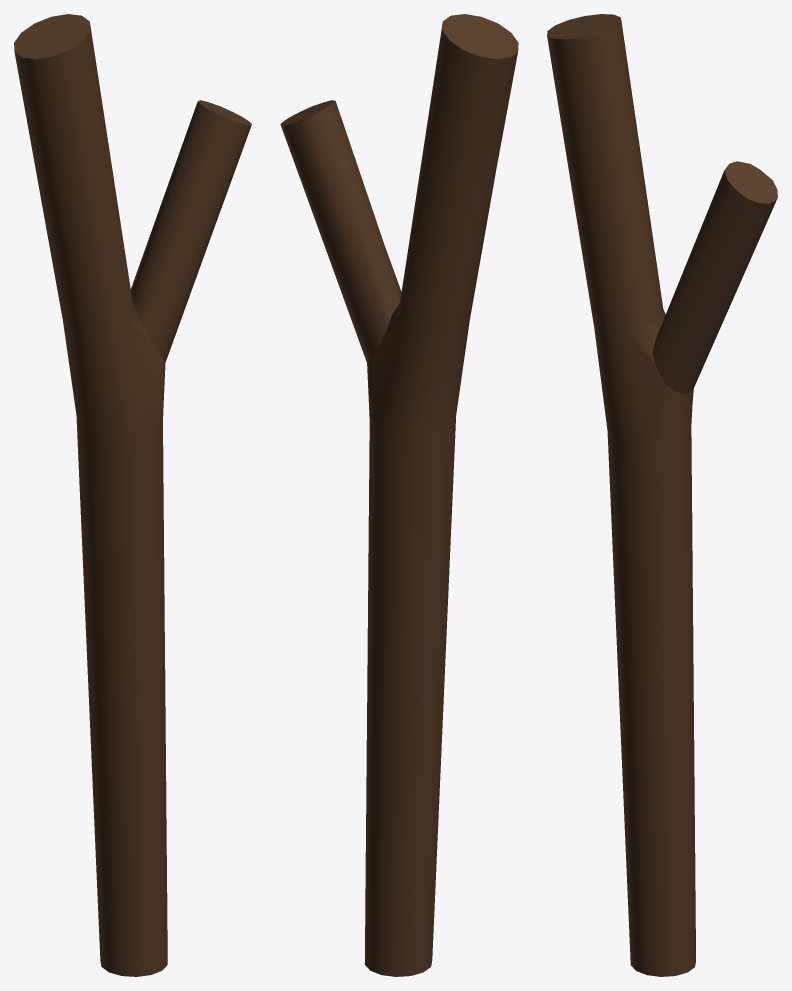
File: stick.fbx
3 renders of one model, left to right at view 1: azimuth 30°, elevation 25°; view 2: azimuth 150°, elevation 25°; view 3: azimuth 330°, elevation 25°, orthographic. The views are drawn at different scales.
Visible parts, largest first — view 1: stick; view 2: stick; view 3: stick.
Boxes of the visible parts, left/top/right/bottom form: stick: left=14, top=14, right=251, bottom=976; stick: left=280, top=14, right=518, bottom=976; stick: left=547, top=14, right=777, bottom=976.
Bounding box in the file's own units: 1.62 × 6.44 × 0.5338.
1 material, 1 textured.
